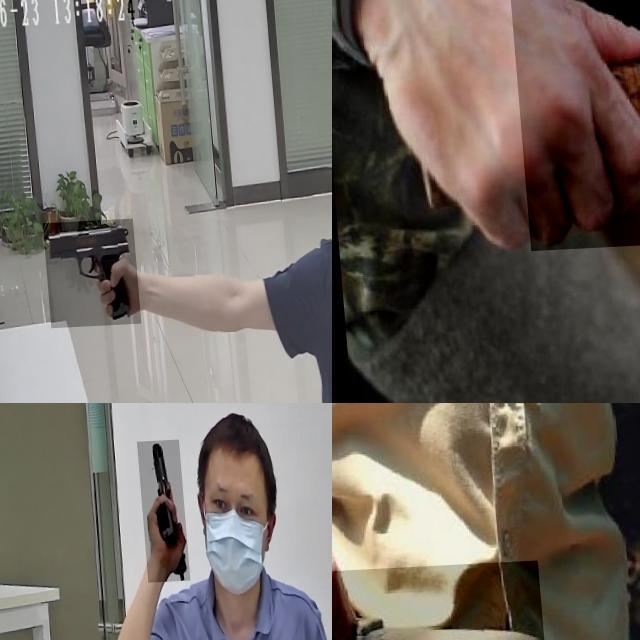-: (506, 0, 640, 253), (332, 566, 541, 640)
gun-knife-thesis - v11 Yolov5 augmented: (38, 220, 136, 330), (133, 443, 184, 586)
